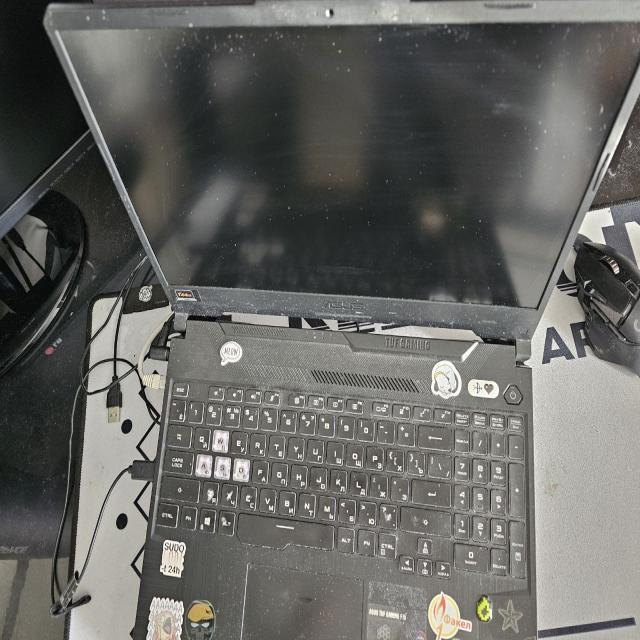other: (289, 589, 322, 612), (291, 633, 311, 640)
